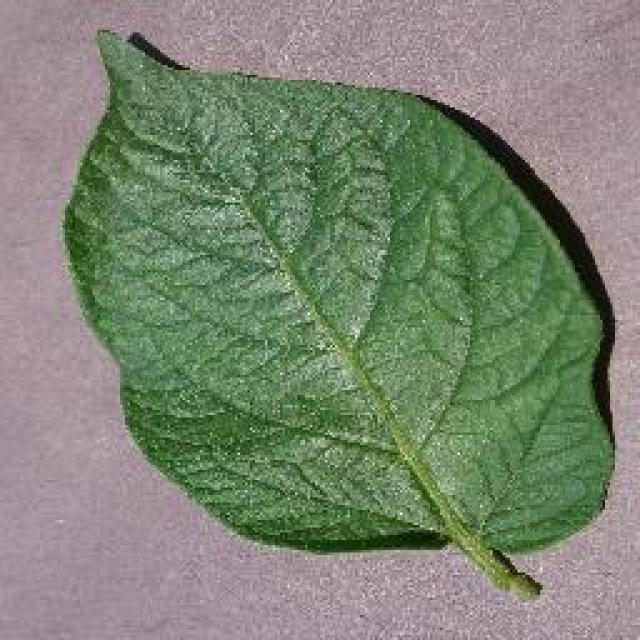Potato: (58, 25, 618, 597)
